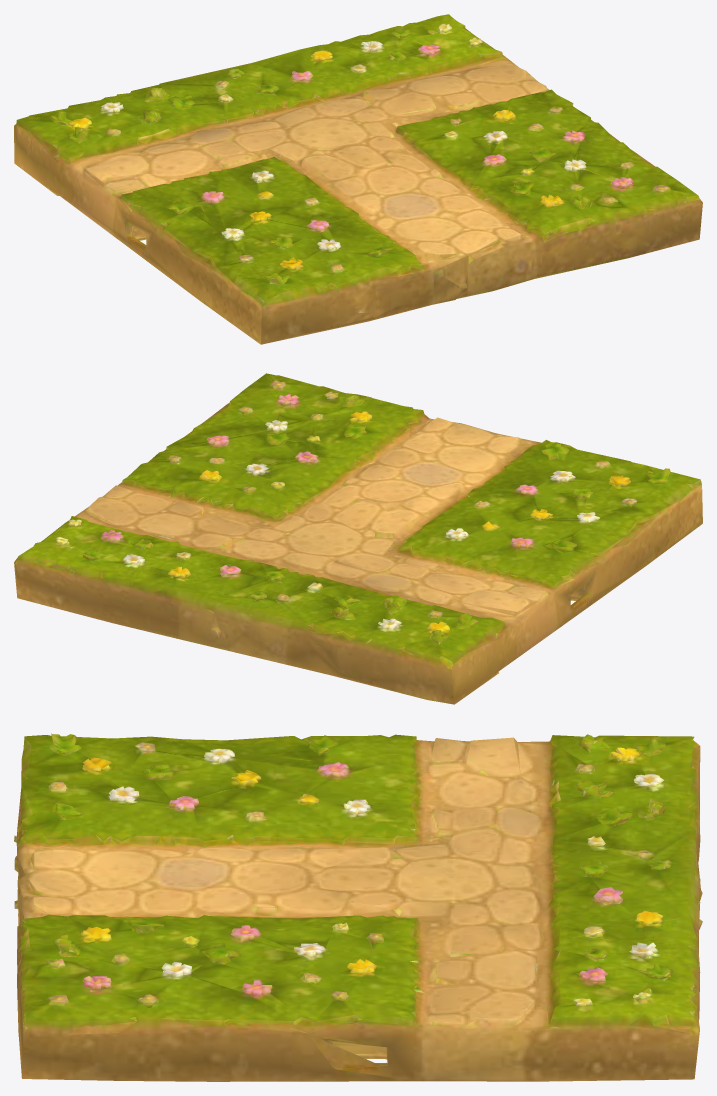
File: path-t.glb
3 views of the same model, one above another, from view 1: azimuth 30°, elevation 25°; view 2: azimuth 150°, elevation 25°; view 3: azimuth 270°, elevation 25° (orthographic). The views are drawn at different scales.
Visible parts, largest first — view 1: Mesh1.0; view 2: Mesh1.0; view 3: Mesh1.0.
Boxes of the visible parts, x1,y1,x2,y2 form: Mesh1.0: (14,14,702,344); Mesh1.0: (14,373,702,704); Mesh1.0: (14,733,702,1081).
Size of the model in its own units: 1.9 by 0.2278 by 1.9.
Materials: 1 (1 with a texture image).
